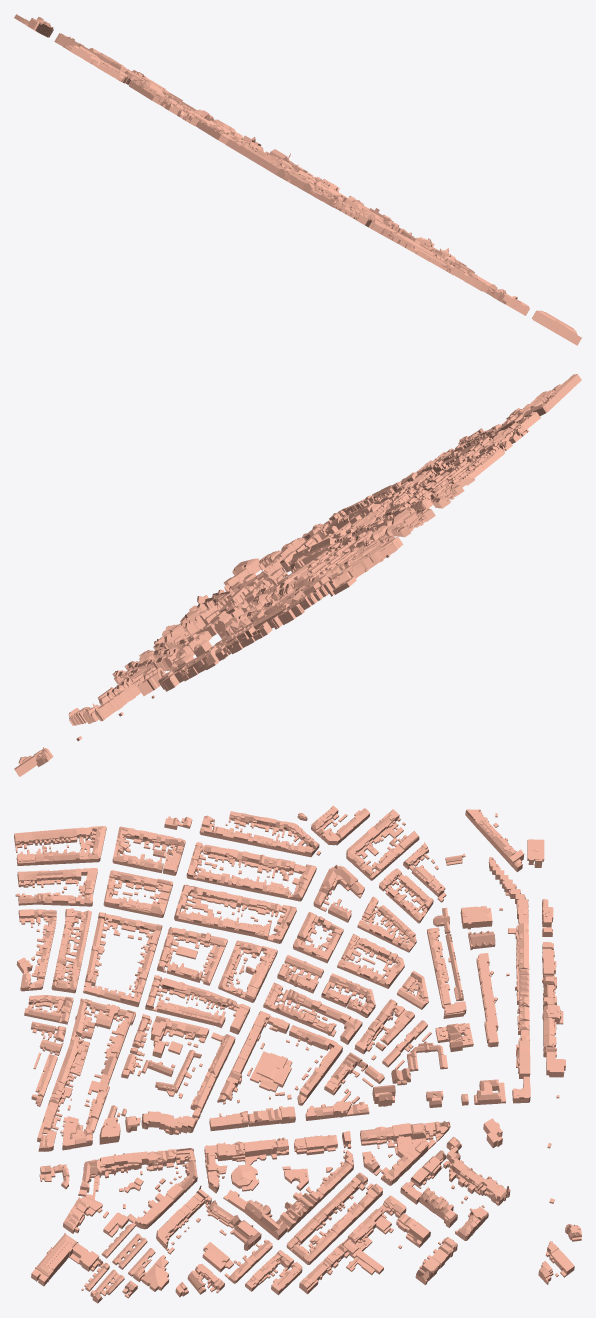
3 renders of one model, top to bottom at view 1: azimuth 30°, elevation 25°; view 2: azimuth 150°, elevation 25°; view 3: azimuth 270°, elevation 25°, orthographic. The views are drawn at different scales.
Bounding box in the file's own units: 522 × 385 × 641.
